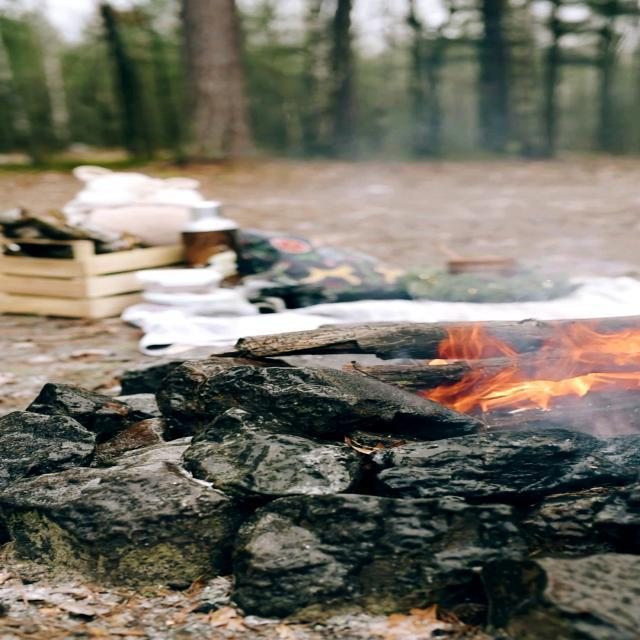Fire: (468, 340, 640, 414)
Smoke: (278, 97, 640, 345)
